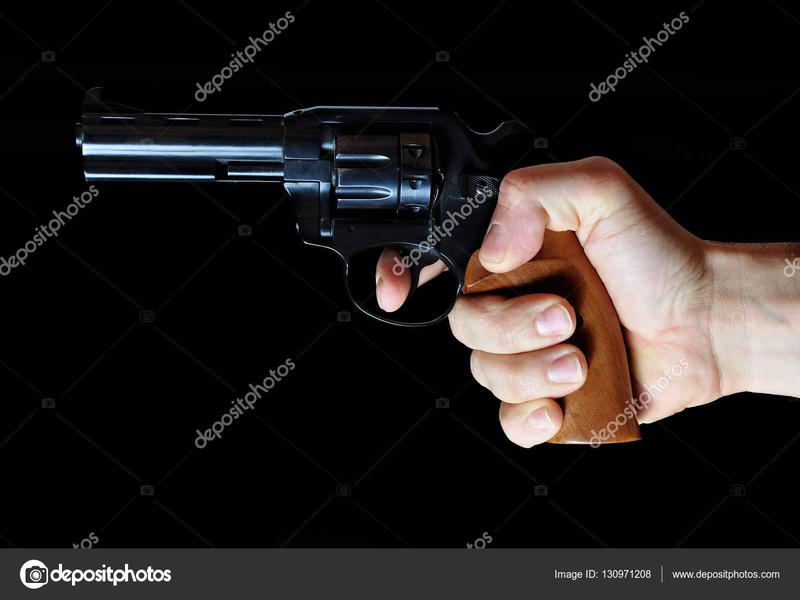Revolver: (67, 69, 568, 446)
